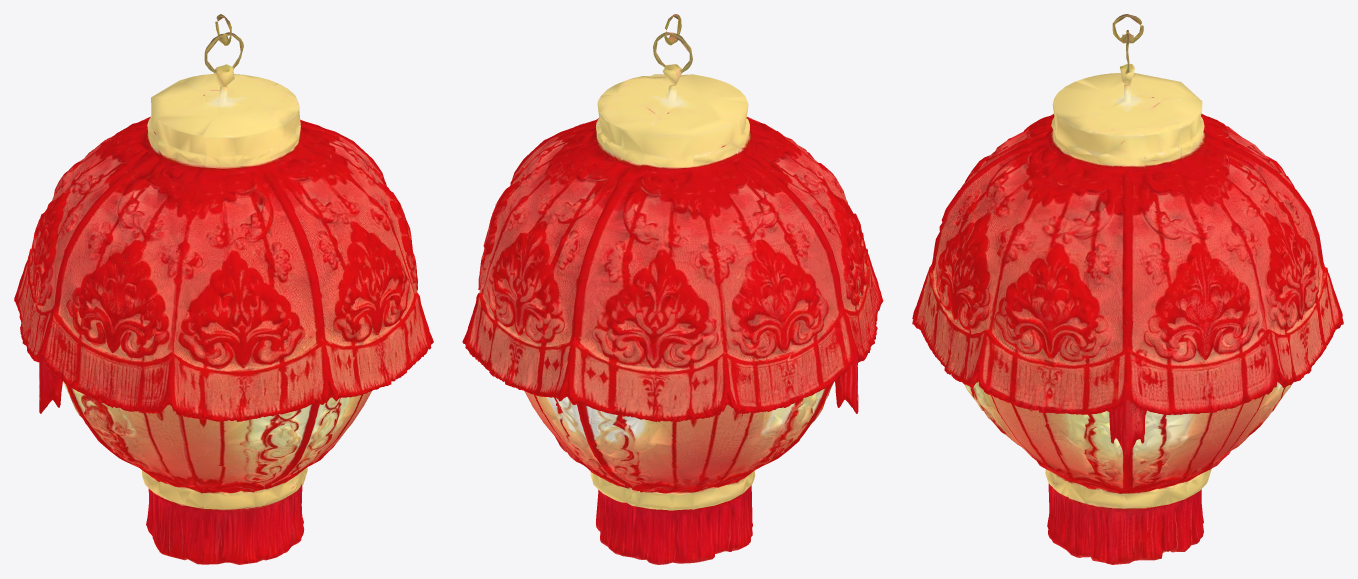
File: lib_lantern.glb
The picture shows the model from 3 angles, left to right: view 1: azimuth 30°, elevation 25°; view 2: azimuth 150°, elevation 25°; view 3: azimuth 270°, elevation 25°; orthographic projection.
Size of the model in its own units: 1.41 by 1.9 by 1.43.
1 material, 1 textured.
